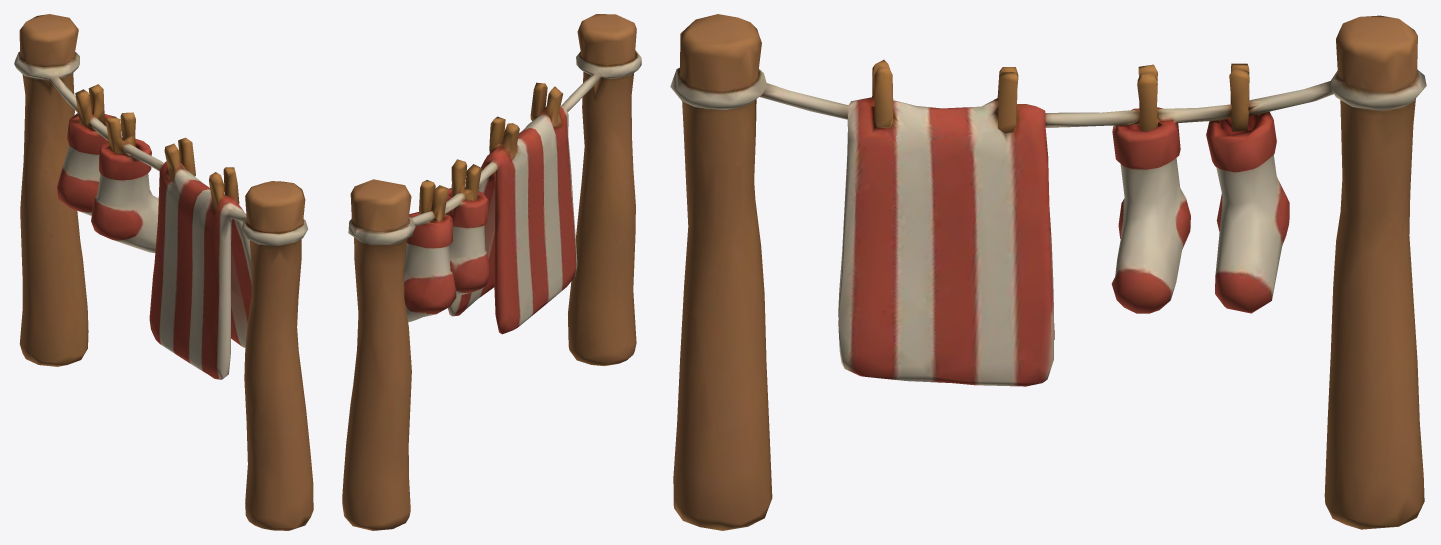
The model's file is f-washline.glb.
3 renders of one model, left to right at view 1: azimuth 30°, elevation 25°; view 2: azimuth 150°, elevation 25°; view 3: azimuth 270°, elevation 25°, orthographic. The views are drawn at different scales.
Parts seen in each view (by area): view 1: tripo_node_d1bd62d3-5c89-415f-af36-272365d9ec66; view 2: tripo_node_d1bd62d3-5c89-415f-af36-272365d9ec66; view 3: tripo_node_d1bd62d3-5c89-415f-af36-272365d9ec66.
Part boxes in pixels (bbox=[...]): tripo_node_d1bd62d3-5c89-415f-af36-272365d9ec66: bbox=[14, 14, 313, 530]; tripo_node_d1bd62d3-5c89-415f-af36-272365d9ec66: bbox=[342, 14, 641, 530]; tripo_node_d1bd62d3-5c89-415f-af36-272365d9ec66: bbox=[670, 14, 1426, 530].
Size of the model in its own units: 0.1951 by 0.7031 by 1.
1 material, 1 textured.
